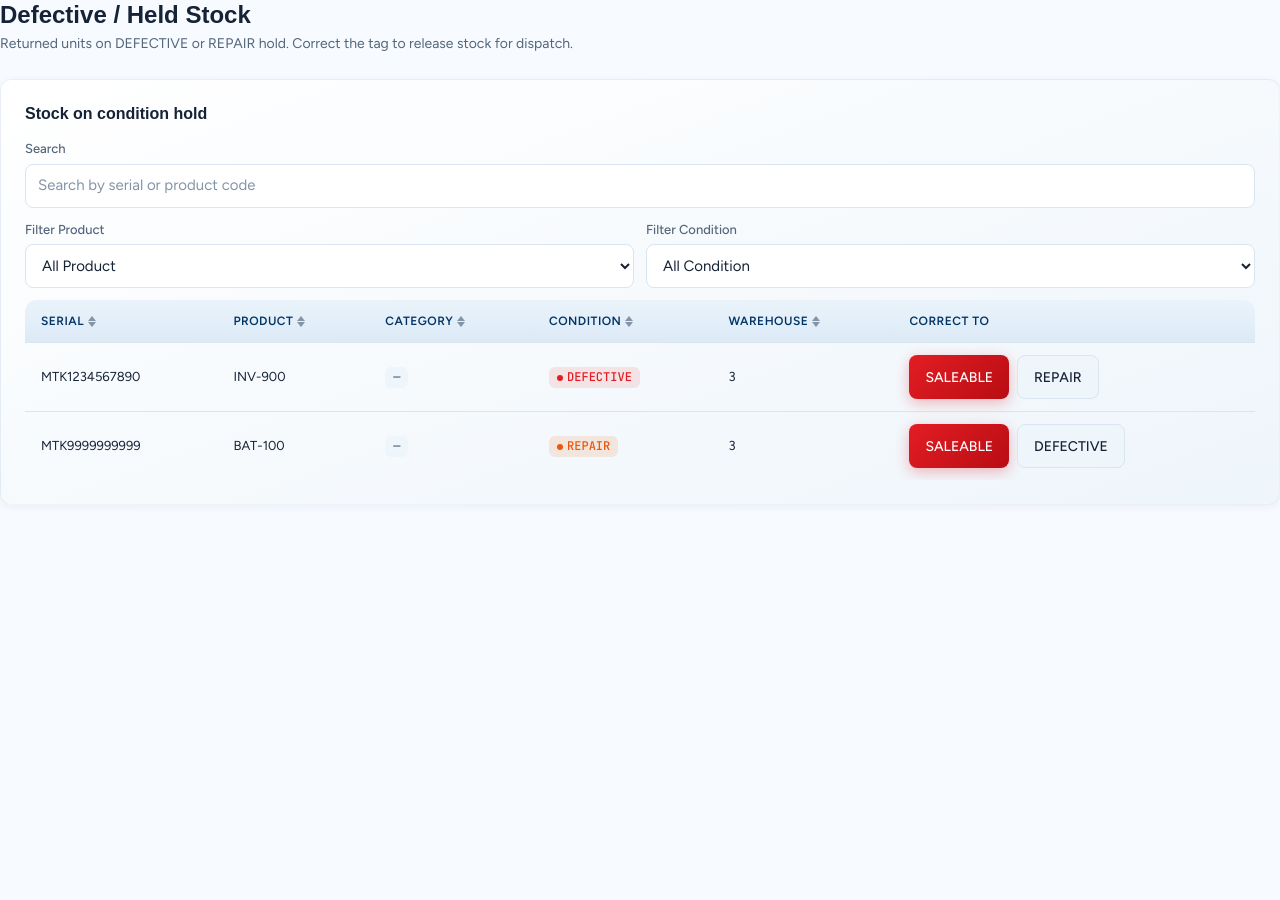
Test: ConditionPage › lists held stock and retags a serial SALEABLE
The width and height of the screenshot is (1280, 900).
Expected: the text "MTK1234567890" is shown, [25,343,218,412]
// Retag the first held serial back to SALEABLE, confirming the dialog.
Click the button "SALEABLE" in the row of "MTK1234567890": click(959, 377) [909,355,1009,399]
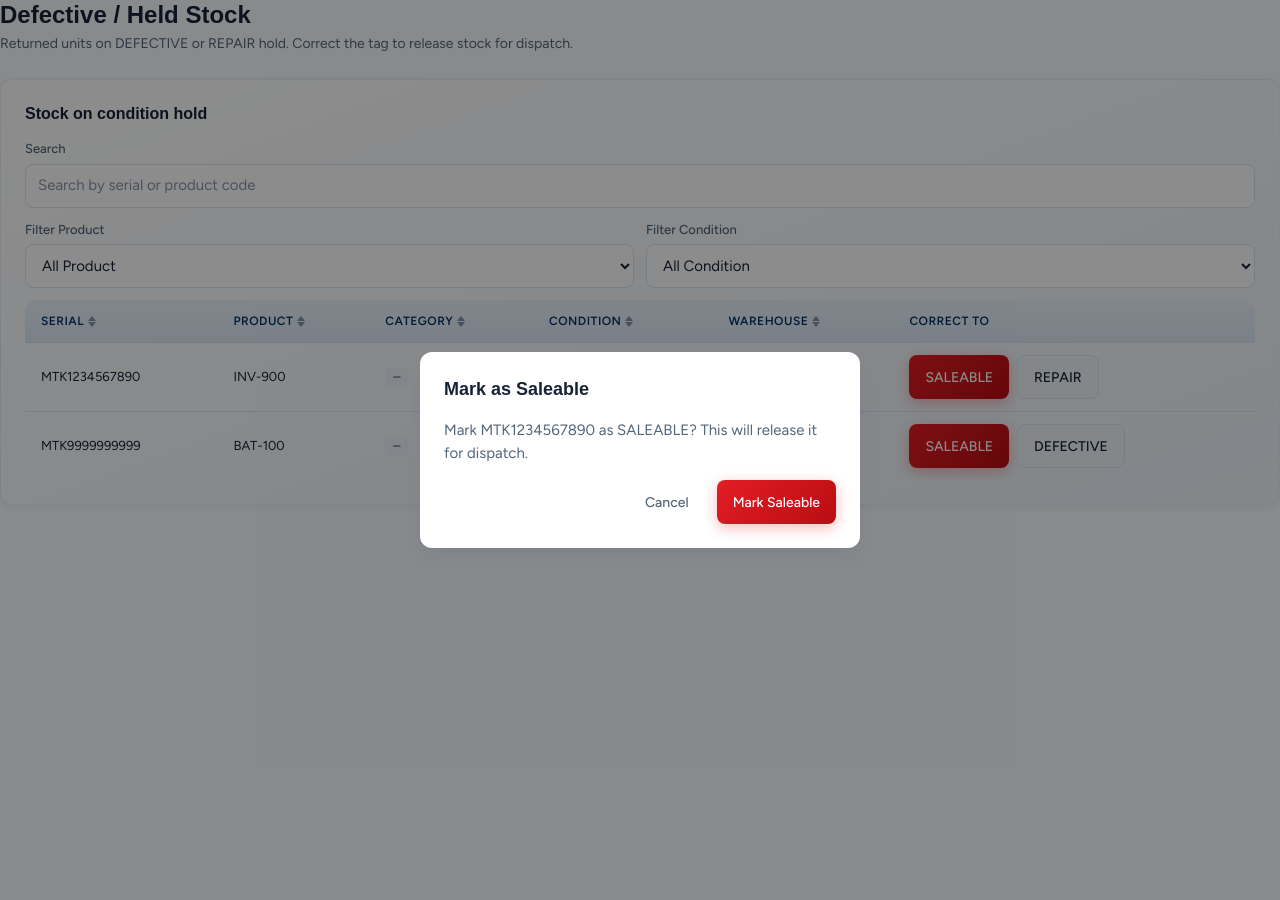
Click the button "Mark Saleable": click(776, 502) [717,480,836,524]
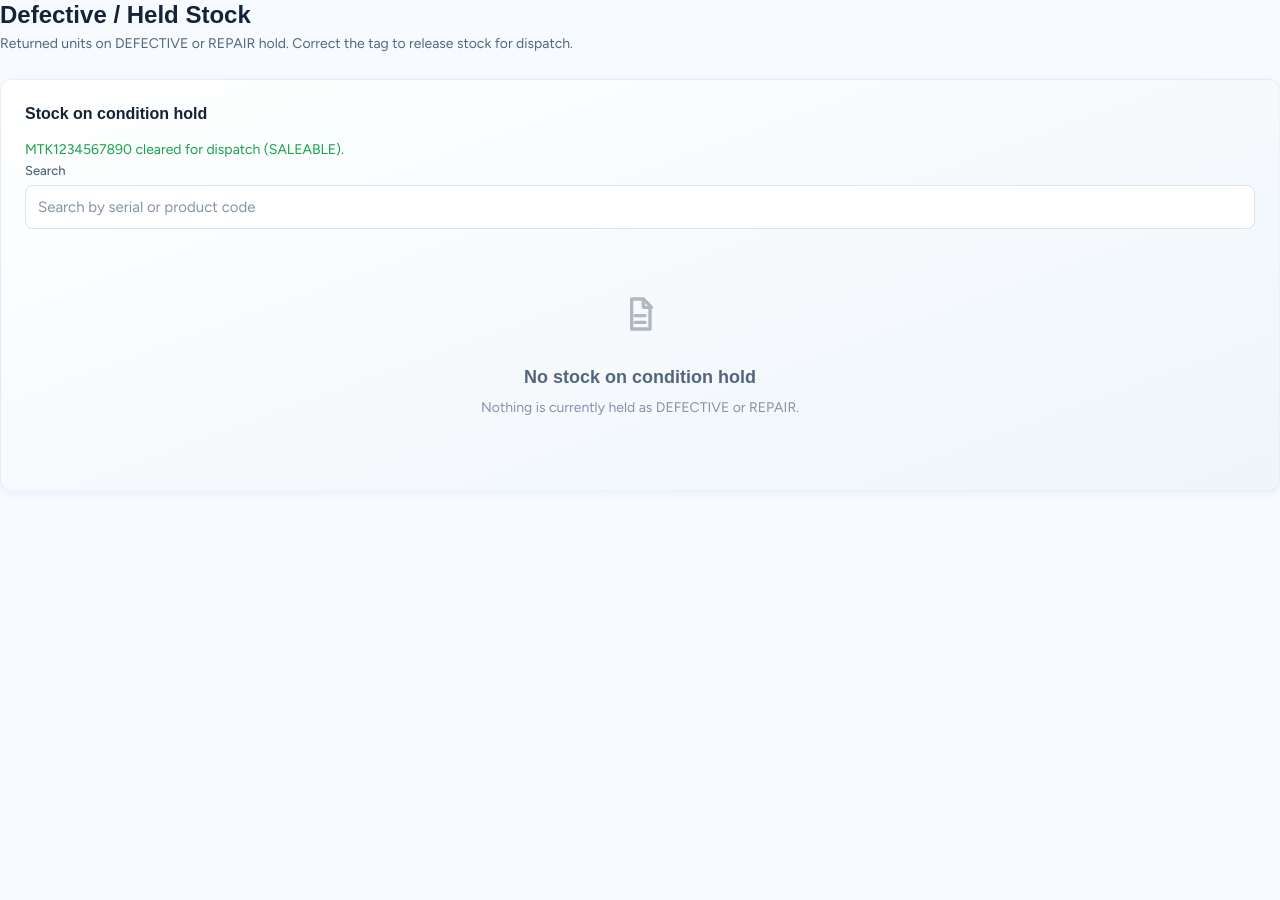
Result: the heading "No stock on condition hold" is shown at [524,367,756,389]
